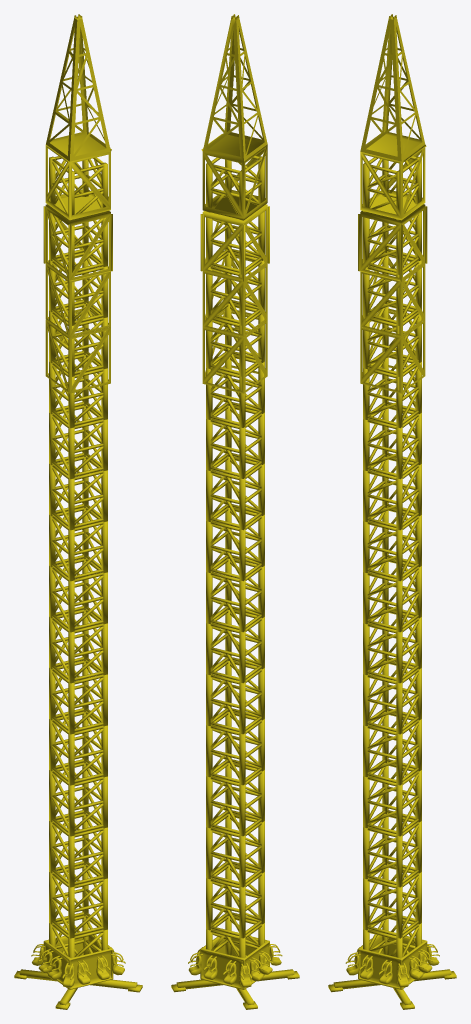
Rendered from DropTower.obj.
3 renders of one model, left to right at view 1: azimuth 30°, elevation 25°; view 2: azimuth 150°, elevation 25°; view 3: azimuth 330°, elevation 25°, orthographic.
Parts seen in each view (by area): view 1: crane_Mesh.065, Cube.002_Cube.032; view 2: crane_Mesh.065, Cube.002_Cube.032; view 3: crane_Mesh.065, Cube.002_Cube.032.
Part boxes in pixels (<box>): crane_Mesh.065: <box>14,14,142,1009</box>; Cube.002_Cube.032: <box>31,935,125,989</box>; crane_Mesh.065: <box>171,14,299,1009</box>; Cube.002_Cube.032: <box>188,935,282,989</box>; crane_Mesh.065: <box>328,14,456,1009</box>; Cube.002_Cube.032: <box>345,935,439,989</box>.
Size of the model in its own units: 1.93 by 20.47 by 1.93.
